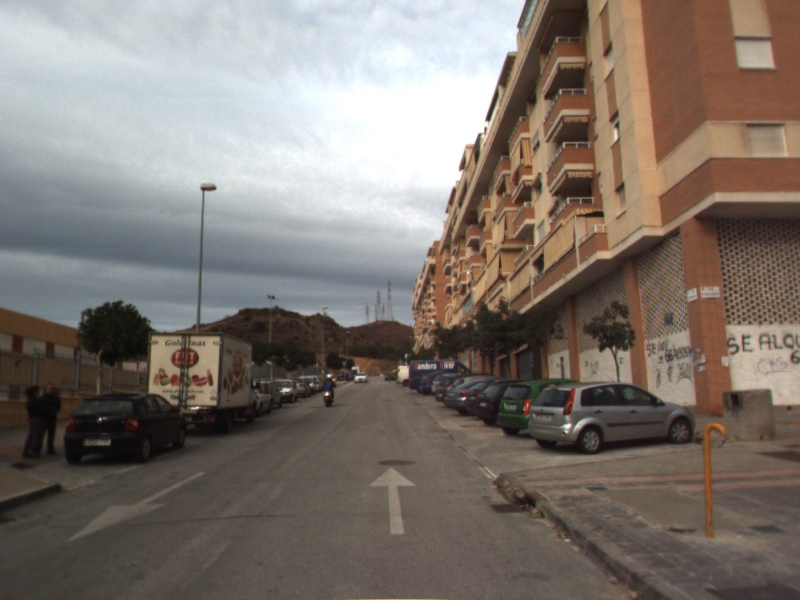STRAIGHT: (367, 465, 418, 536)
